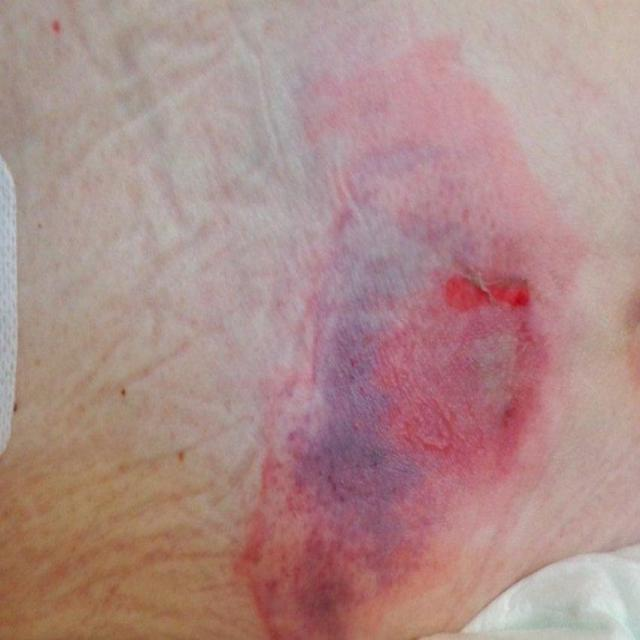DTI: (234, 190, 558, 640)
